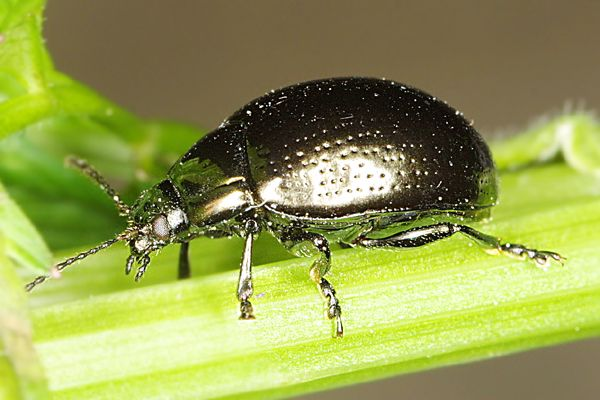Chrysolina_oricalcia: (15, 56, 569, 340)
